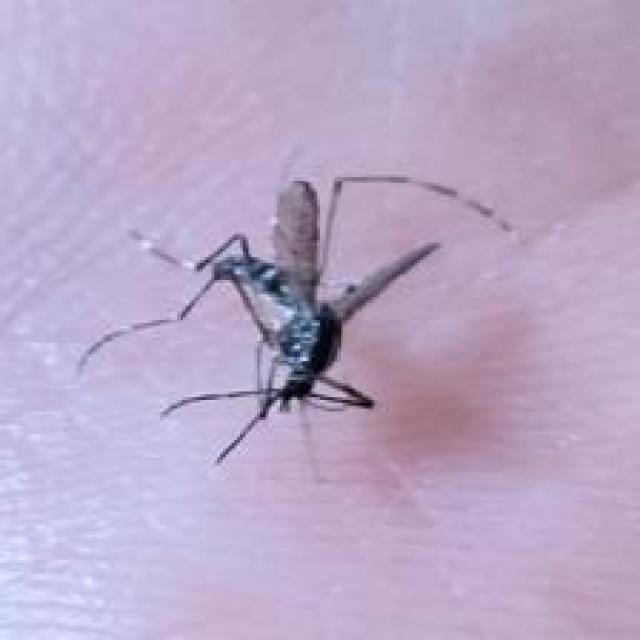Aedes albopictus: (74, 170, 520, 470)
